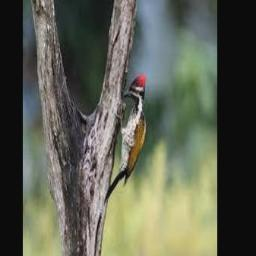Woodpecker: (104, 75, 146, 201)
